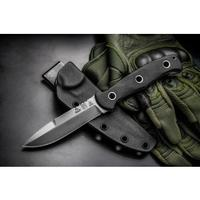knife: (14, 55, 182, 154)
